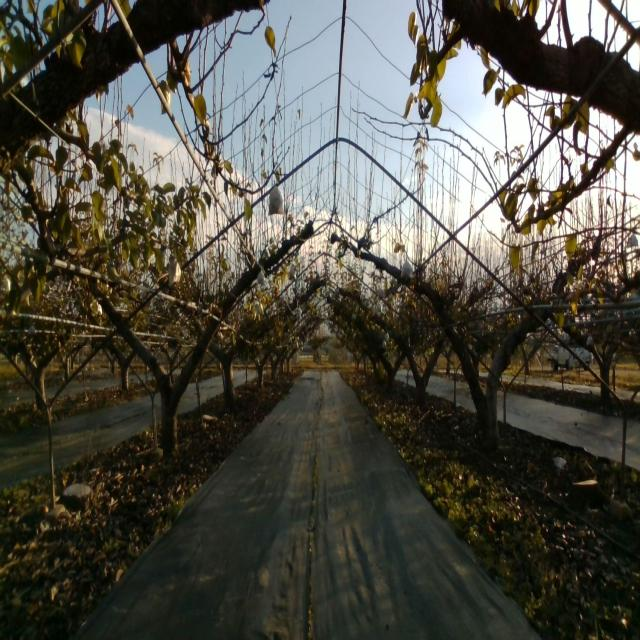pearbags: (268, 181, 285, 217), (168, 256, 182, 285), (399, 260, 414, 280)
